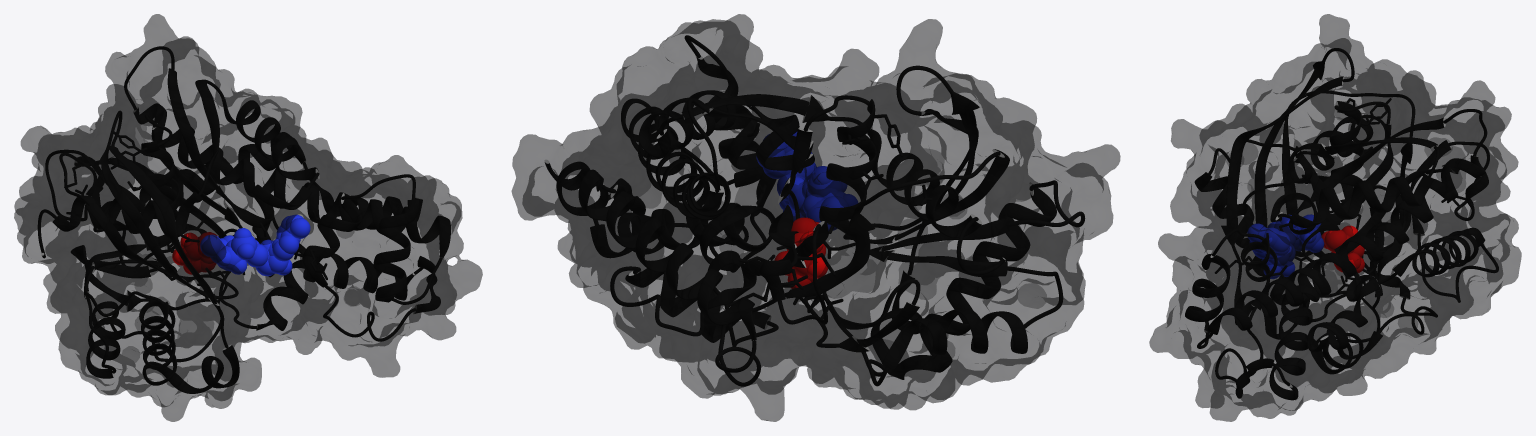
Rendered from glucokinase__glu__atp.glb.
3 renders of one model, left to right at view 1: azimuth 30°, elevation 25°; view 2: azimuth 150°, elevation 25°; view 3: azimuth 270°, elevation 25°, orthographic. The views are drawn at different scales.
Visible parts, largest first — view 1: Object_1059; view 2: Object_1059; view 3: Object_1059, Object_799.
Part boxes in pixels (x1=…): Object_1059: x1=14, y1=14, x2=482, y2=421; Object_1059: x1=511, y1=14, x2=1120, y2=421; Object_1059: x1=1149, y1=14, x2=1521, y2=421; Object_799: x1=1324, y1=230, x2=1346, y2=251.
Size of the model in its own units: 6.48 by 4.84 by 5.19.
